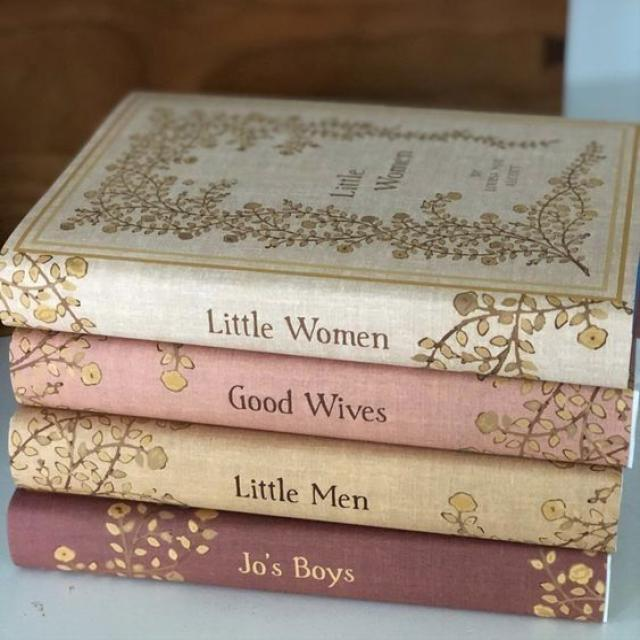book: (9, 407, 621, 552), (6, 250, 633, 390), (11, 330, 630, 468), (8, 488, 606, 620)
